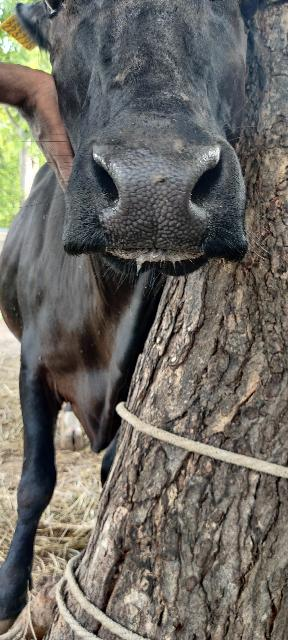Muzzle: (101, 154, 204, 250)
